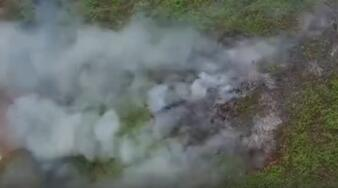yanwu: (1, 0, 294, 185)
